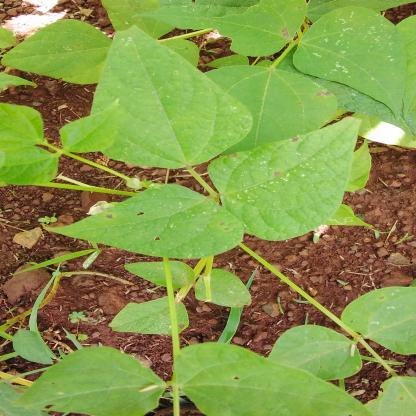Beans_Angular_LeafSpot: (209, 117, 366, 232), (41, 184, 246, 264), (296, 6, 410, 121), (195, 64, 339, 144), (148, 0, 309, 55)
